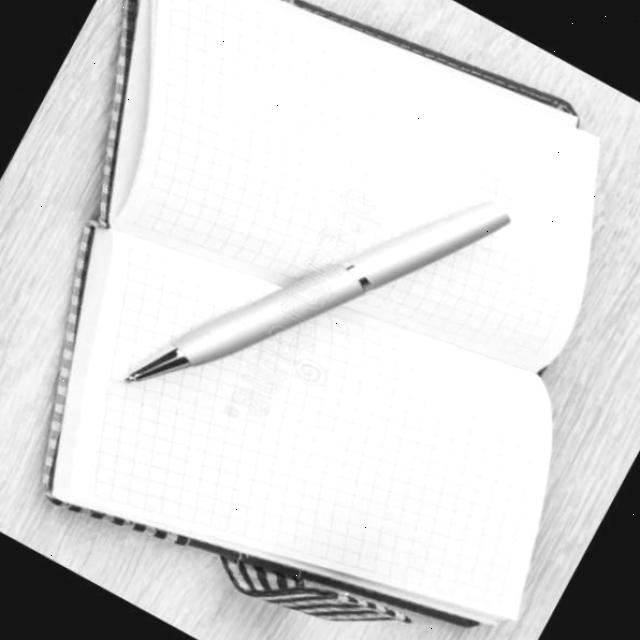pencil: (111, 182, 535, 410)
